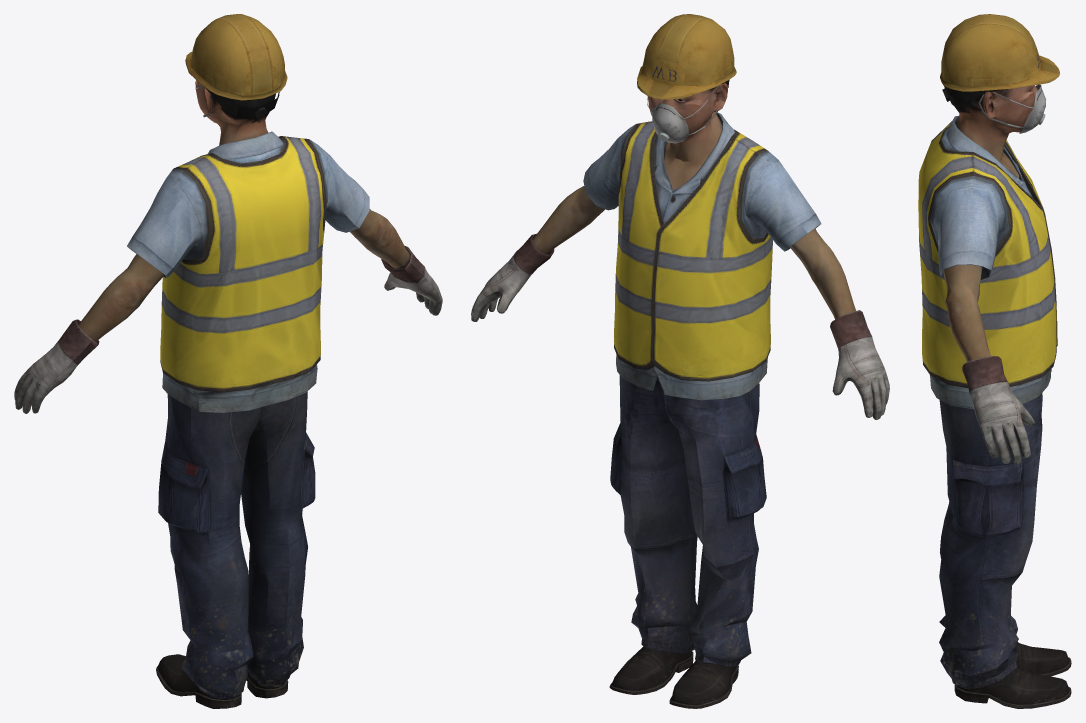
File: a_chinese_worker_compressed.glb
3 views of the same model, side by side, from view 1: azimuth 30°, elevation 25°; view 2: azimuth 150°, elevation 25°; view 3: azimuth 270°, elevation 25° (orthographic). The views are drawn at different scales.
Visible parts, largest first — view 1: skfb_offset; view 2: skfb_offset; view 3: skfb_offset.
Part boxes in pixels (x1,y1,x2,y2): skfb_offset: (14,14,442,708); skfb_offset: (471,14,889,708); skfb_offset: (918,14,1071,708).
Bounding box in the file's own units: 11571 × 17772 × 3703.
Materials: 1 (1 with a texture image).
